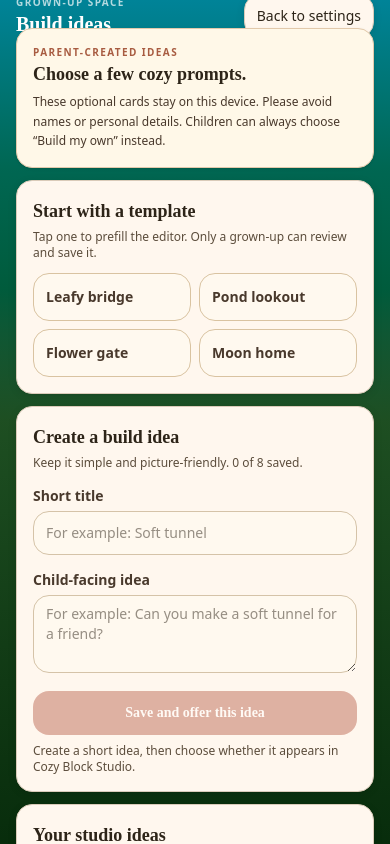
ParentBuildPromptsScreen › keeps a parent-created prompt local and lets the adult choose whether it reaches the studio
The image size is (390, 844).
Type "Soft tunnel" into the field named "Custom build prompt title" at (195, 532), box top-left (33, 510), bottom-right (357, 554)
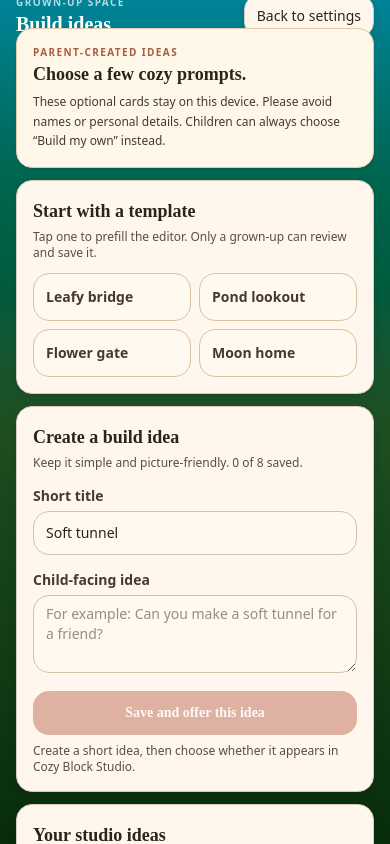
Type "Can you make a soft tunnel for a friend?" into the text box named "Custom child-facing build idea" at (195, 634), box top-left (33, 594), bottom-right (357, 672)
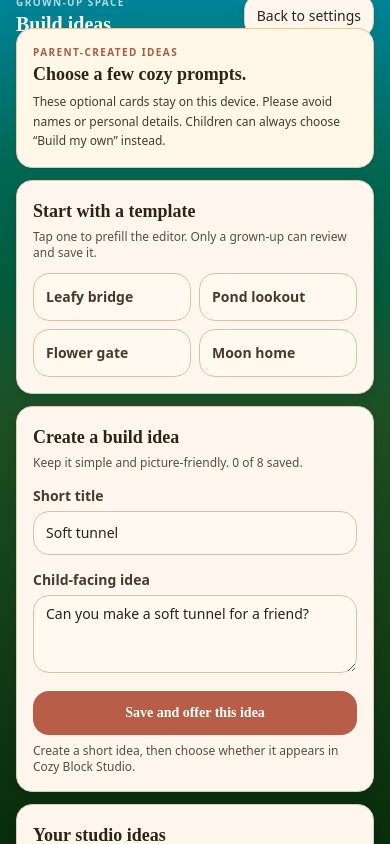
Click the button "Save and offer this idea" at (195, 712), box top-left (33, 690), bottom-right (357, 734)
(page scrolled)
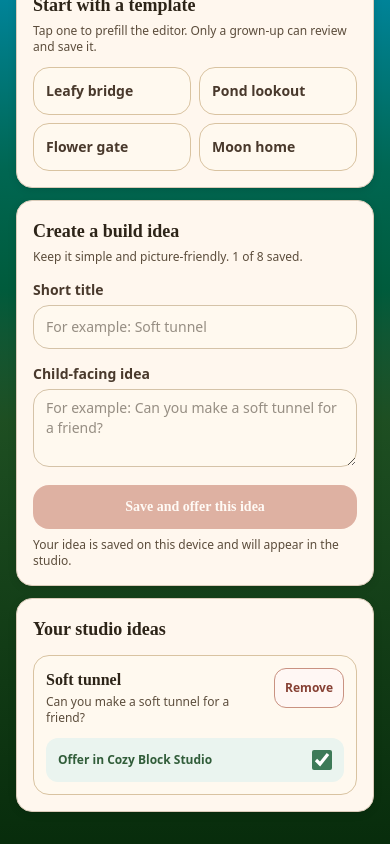
expect the text "Your idea is saved on this device and will appear in the studio." is shown: met, box top-left (33, 536), bottom-right (357, 568)
Click the checkbox named "Offer Soft tunnel in Cozy Block Studio" at (322, 760), box top-left (312, 750), bottom-right (332, 770)
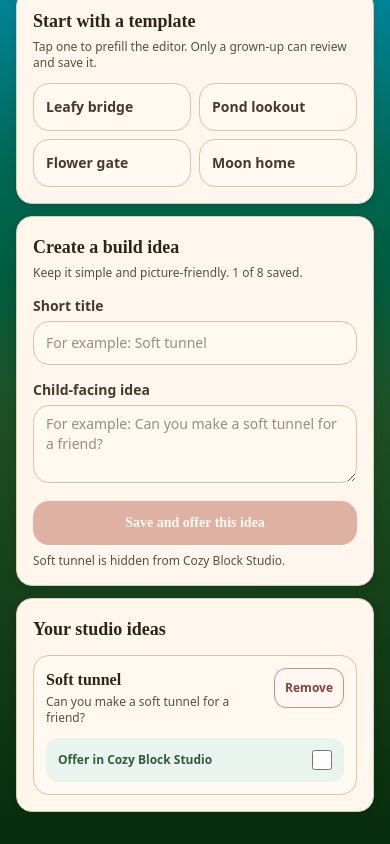
expect the text "Soft tunnel is hidden from Cozy Block Studio." is shown: met, box top-left (33, 552), bottom-right (285, 568)
